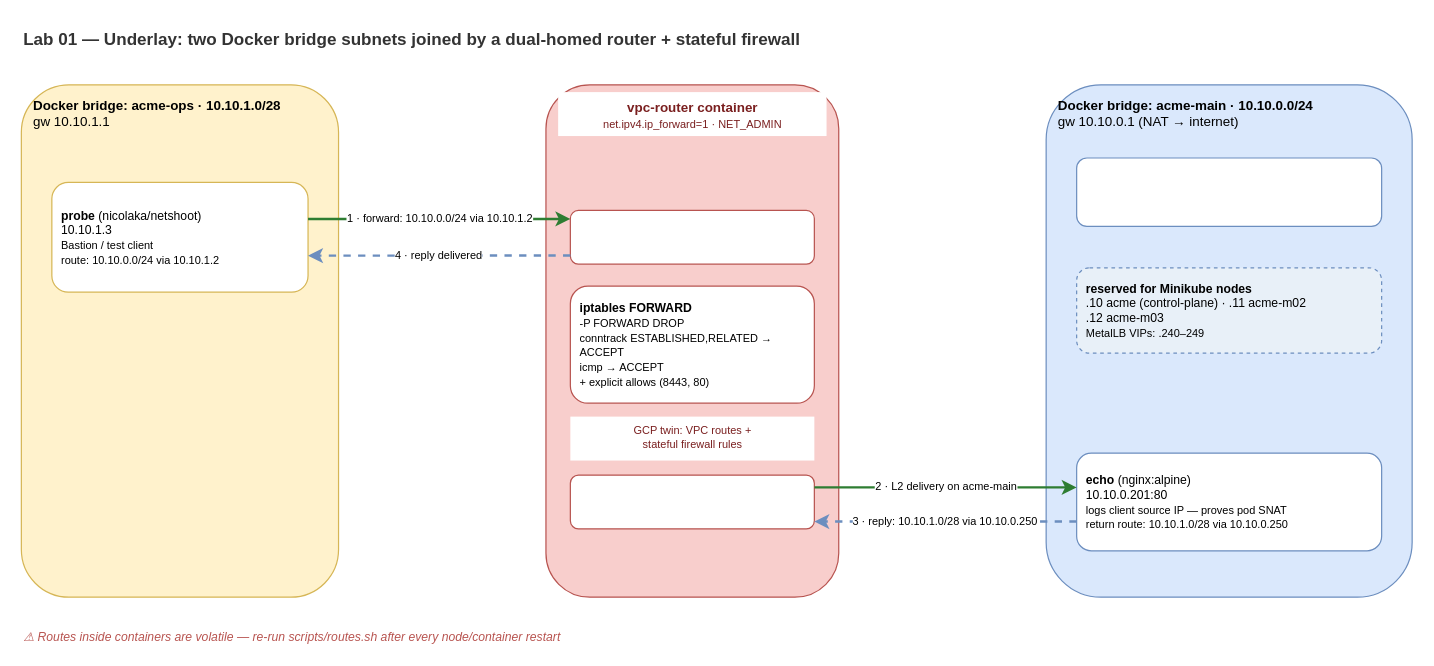
Some shapes in this 1434 by 666 pixel diagram are drawn without their labels. The shapes that lost their labels are listed below. From the top down, each one's centre as x and y in pixels, then its label:
the point at 1228,191: registry:2 10.10.0.200:5000 Door 1 — Artifact Registry twin
the point at 691,236: eth1 10.10.1.2/28
the point at 691,501: eth0 10.10.0.250/24
